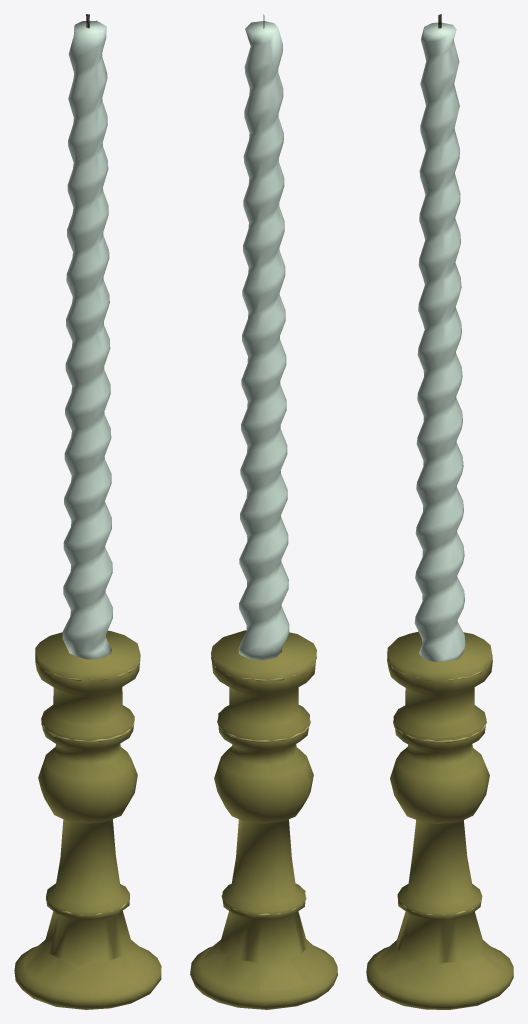
File: 01_Spiral_Candle_LOD1.fbx
3 renders of one model, left to right at view 1: azimuth 30°, elevation 25°; view 2: azimuth 150°, elevation 25°; view 3: azimuth 270°, elevation 25°, orthographic.
Visible parts, largest first — view 1: 01_Spiral_Candle_LOD1_Mesh; view 2: 01_Spiral_Candle_LOD1_Mesh; view 3: 01_Spiral_Candle_LOD1_Mesh.
Boxes of the visible parts, x1,y1,x2,y2 form: 01_Spiral_Candle_LOD1_Mesh: (14, 14, 161, 1009); 01_Spiral_Candle_LOD1_Mesh: (190, 14, 337, 1009); 01_Spiral_Candle_LOD1_Mesh: (366, 14, 513, 1009).
Size of the model in its own units: 9.79 by 71 by 9.79.
Materials: 1 (1 with a texture image).
